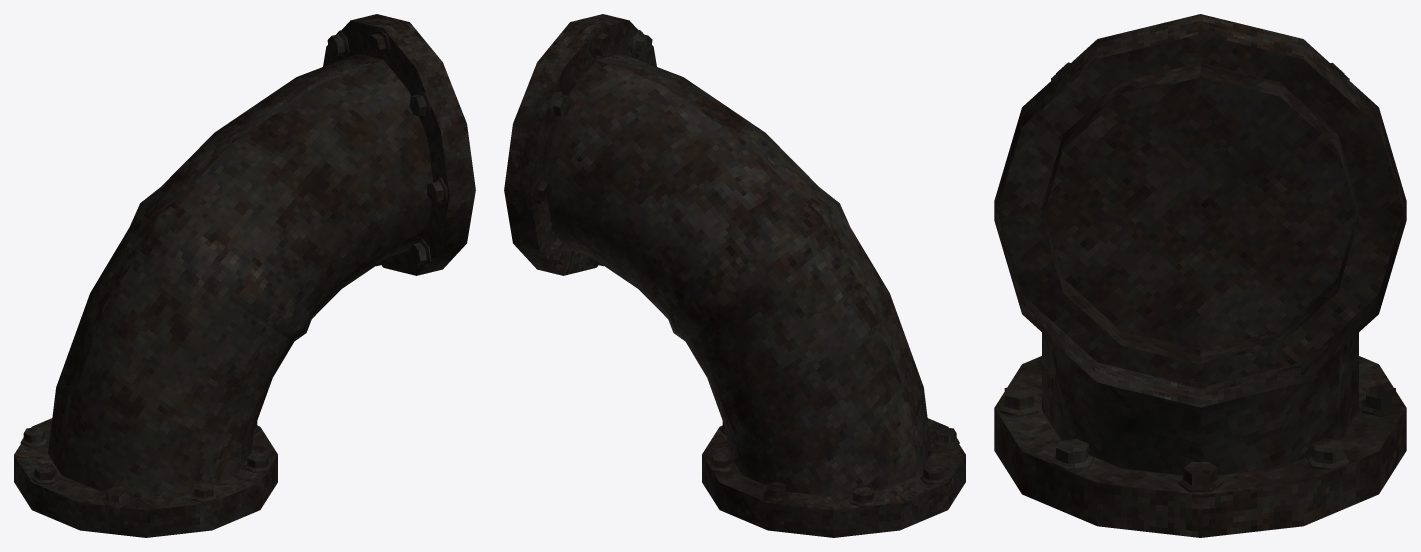
File: pipe_1_corner.glb
3 renders of one model, left to right at view 1: azimuth 30°, elevation 25°; view 2: azimuth 150°, elevation 25°; view 3: azimuth 270°, elevation 25°, orthographic. The views are drawn at different scales.
Visible parts, largest first — view 1: pipe_1_corner; view 2: pipe_1_corner; view 3: pipe_1_corner.
Boxes of the visible parts, bbox=[...] form: pipe_1_corner: bbox=[14, 14, 475, 537]; pipe_1_corner: bbox=[504, 14, 965, 537]; pipe_1_corner: bbox=[994, 14, 1406, 537].
Bounding box in the file's own units: 0.43 × 0.43 × 0.26.
1 material, 1 textured.
